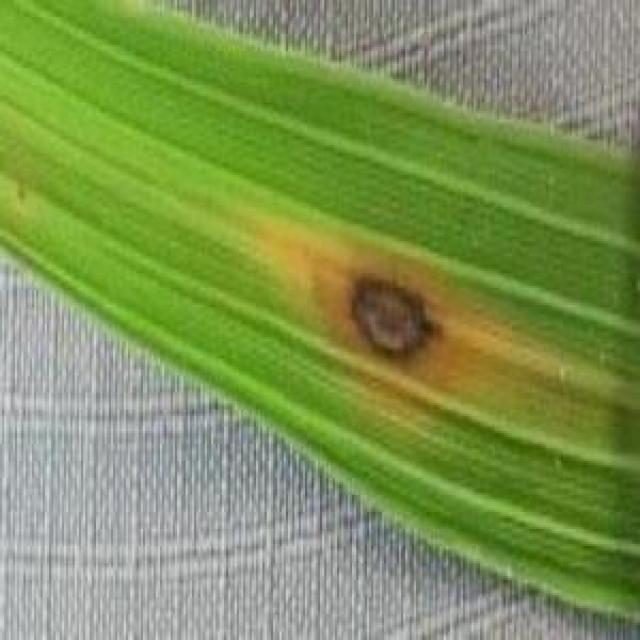brownspots: (331, 256, 456, 378)
